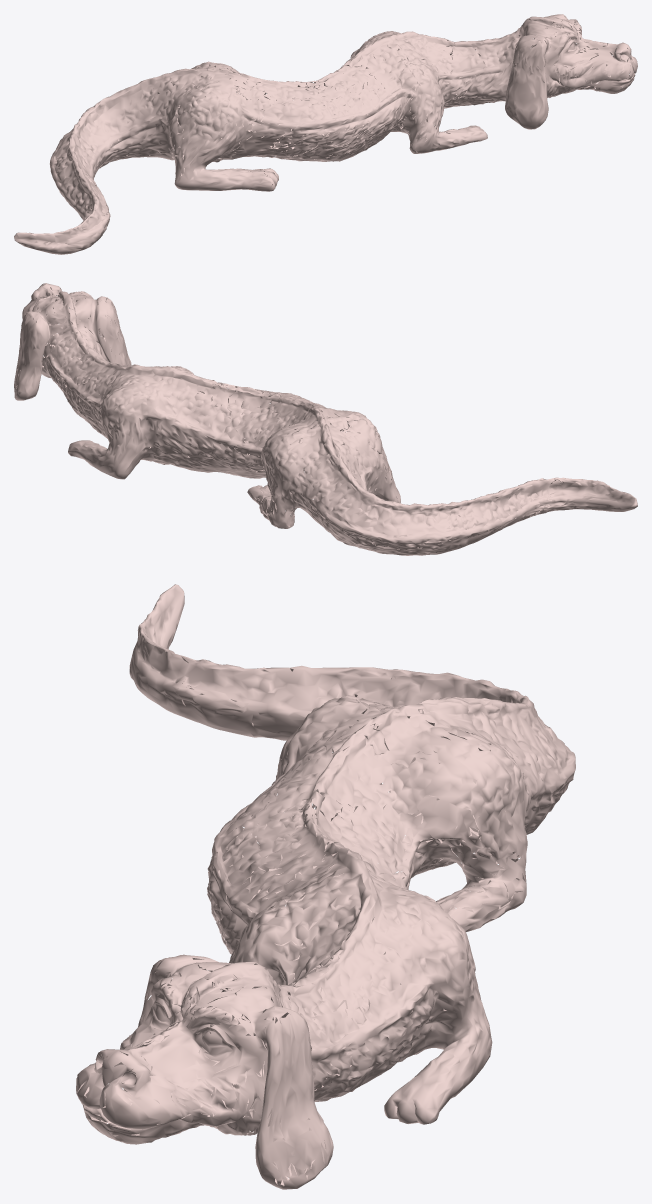
Rendered from falkor.glb.
The picture shows the model from 3 angles, top to bottom: view 1: azimuth 30°, elevation 25°; view 2: azimuth 150°, elevation 25°; view 3: azimuth 270°, elevation 25°; orthographic projection. The views are drawn at different scales.
Size of the model in its own units: 6 by 0.9807 by 2.13.
1 material, 1 textured.
